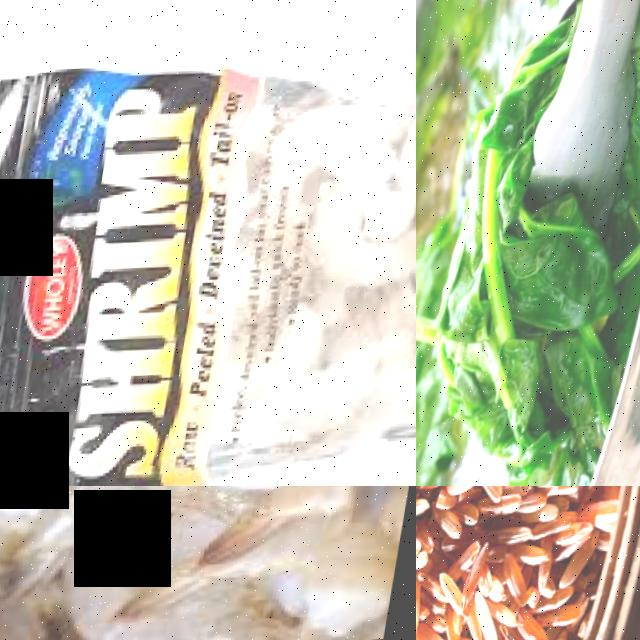red rice: (416, 486, 640, 640)
shrimp: (76, 486, 318, 546)
spinach: (507, 201, 634, 333), (442, 265, 507, 357), (503, 339, 559, 422)
